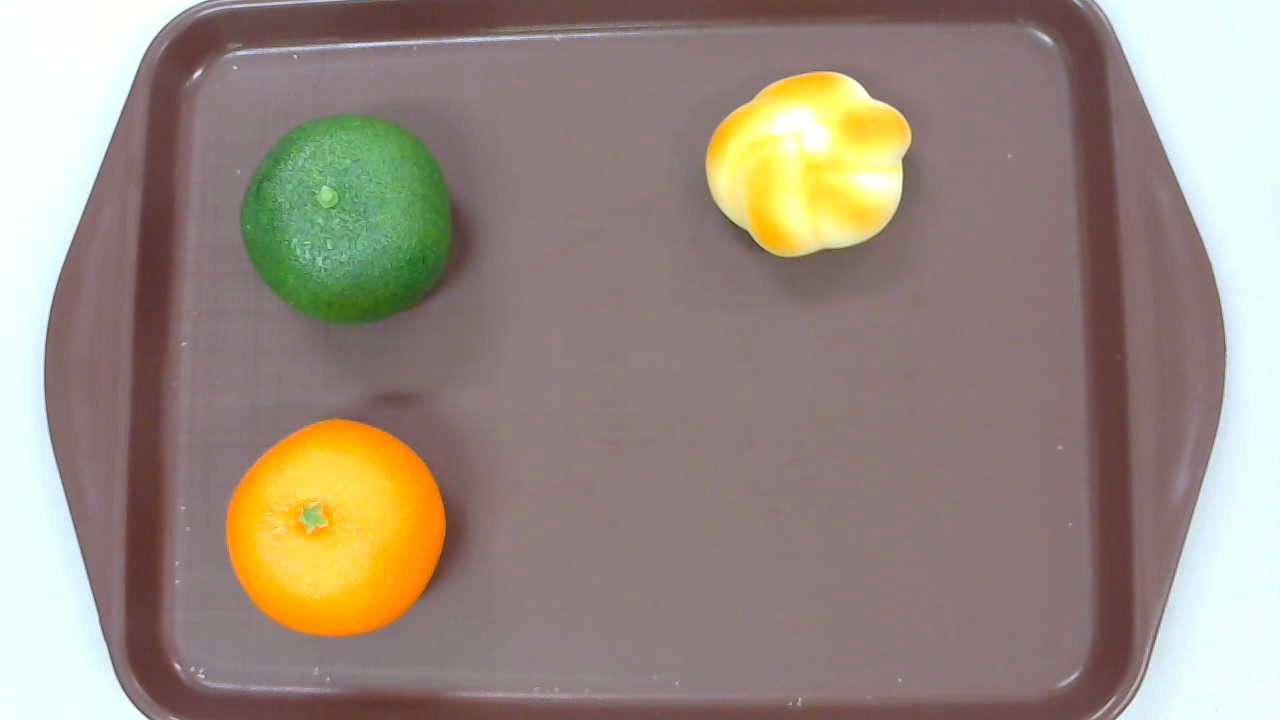green orange: (240, 112, 452, 326)
orange: (224, 416, 447, 637)
twist bread: (705, 71, 910, 260)
